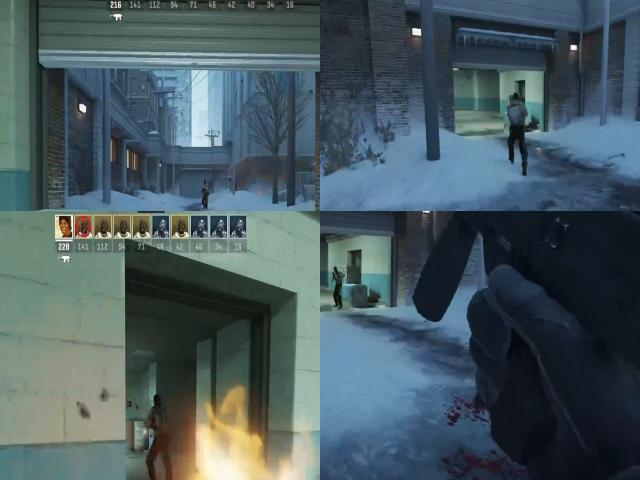T: (146, 390, 174, 448), (505, 90, 528, 138), (332, 264, 343, 292), (201, 176, 212, 203)
T-Head: (149, 393, 167, 416), (511, 93, 522, 111), (333, 264, 340, 272), (203, 180, 209, 188)
